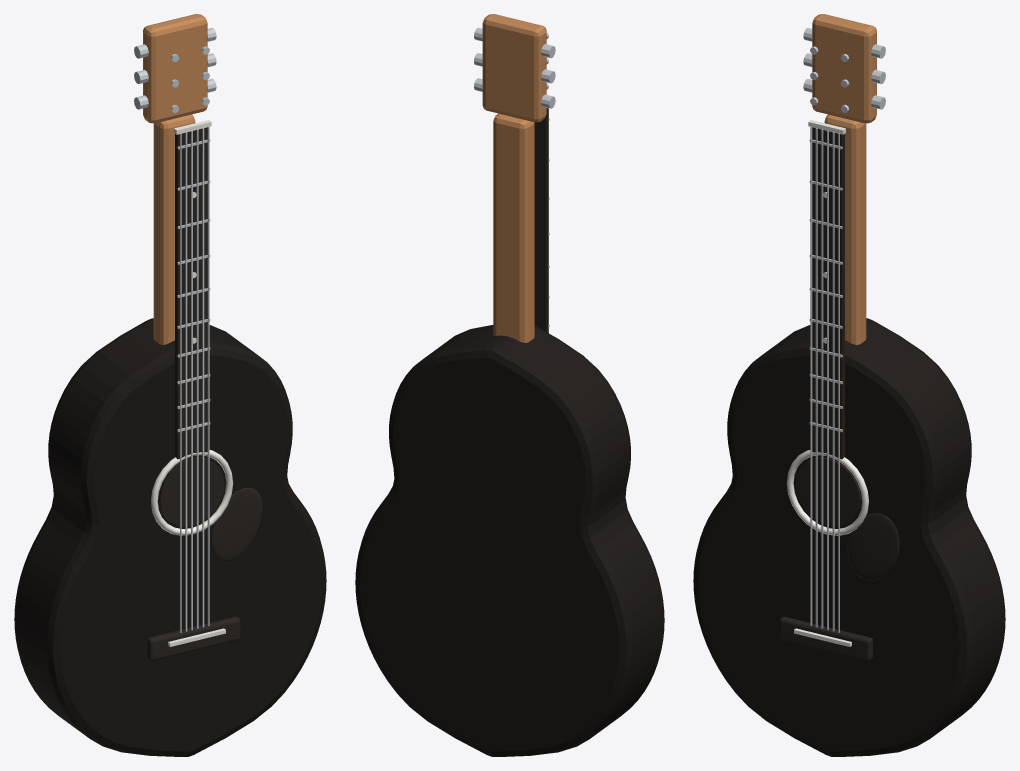
Rendered from hh_cat_guitar.glb.
3 views of the same model, side by side, from view 1: azimuth 30°, elevation 25°; view 2: azimuth 150°, elevation 25°; view 3: azimuth 330°, elevation 25° (orthographic).
Visible parts, largest first — view 1: body, fretboard, headstock, neck, soundhole, pickguard, bridge, rosette, string.001, string.003, string.004, string.005 (+2 smaller); view 2: body, neck, headstock, fretboard; view 3: body, fretboard, headstock, neck, soundhole, pickguard, bridge, rosette, string, string.001, string.002, string.004 (+2 smaller).
Part boxes in pixels (<box>): body: <box>14,318,326,756</box>; fretboard: <box>175,127,207,459</box>; headstock: <box>143,14,207,123</box>; neck: <box>153,114,195,344</box>; soundhole: <box>159,457,224,526</box>; pickguard: <box>211,487,263,561</box>; bridge: <box>147,616,240,660</box>; rosette: <box>151,450,233,535</box>; string.001: <box>185,132,187,631</box>; string.003: <box>196,129,198,628</box>; string.004: <box>202,128,204,627</box>; string.005: <box>207,126,209,626</box>; body: <box>355,325,664,756</box>; neck: <box>493,113,534,342</box>; headstock: <box>482,14,546,122</box>; fretboard: <box>534,108,548,332</box>; body: <box>693,318,1005,756</box>; fretboard: <box>812,127,844,459</box>; headstock: <box>812,14,876,123</box>; neck: <box>824,114,866,344</box>; soundhole: <box>795,457,860,526</box>; pickguard: <box>847,513,899,580</box>; bridge: <box>779,616,872,660</box>; rosette: <box>786,450,868,535</box>; string: <box>810,126,812,626</box>; string.001: <box>815,128,817,627</box>; string.002: <box>821,129,823,628</box>; string.004: <box>832,132,834,631</box>.
Bounding box in the file's own units: 0.4 × 1 × 0.12.
